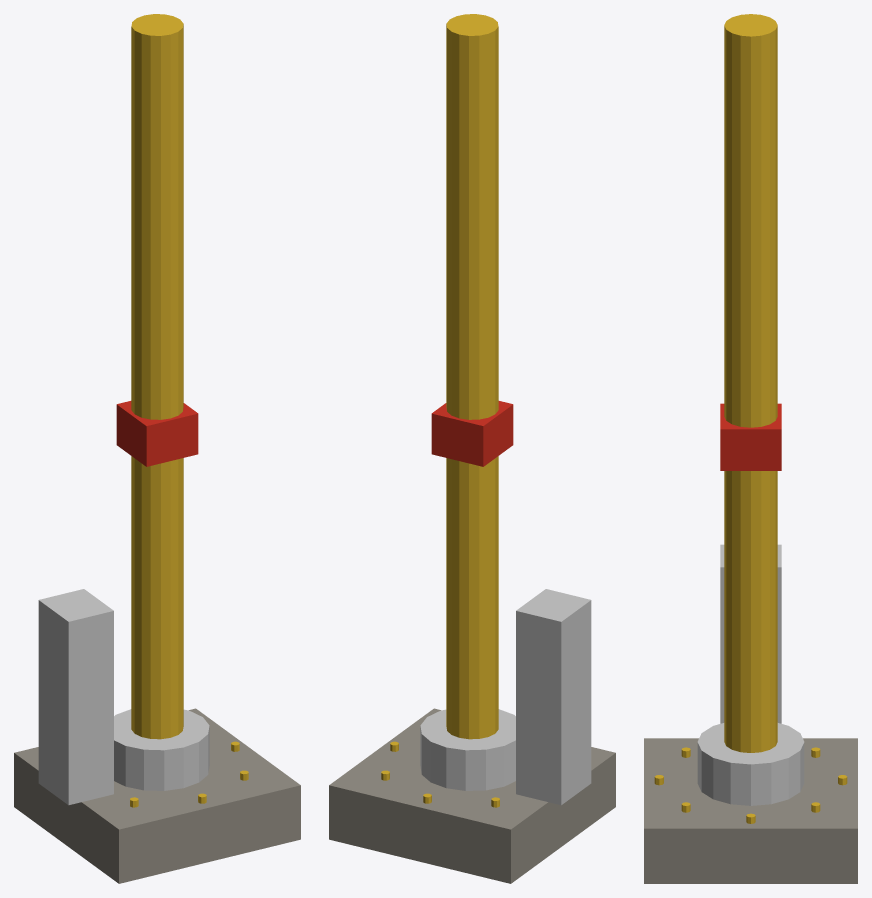
The model's file is nuclear_warning_siren.obj.
The picture shows the model from 3 angles, left to right: view 1: azimuth 30°, elevation 25°; view 2: azimuth 150°, elevation 25°; view 3: azimuth 270°, elevation 25°; orthographic projection.
Parts seen in each view (by area): view 1: nuclear_warning_siren; view 2: nuclear_warning_siren; view 3: nuclear_warning_siren.
Boxes of the visible parts, x1=… form: nuclear_warning_siren: x1=14, y1=14, x2=300, y2=883; nuclear_warning_siren: x1=329, y1=14, x2=615, y2=883; nuclear_warning_siren: x1=644, y1=14, x2=857, y2=883.
Size of the model in its own units: 0.6 by 2.35 by 0.56.
